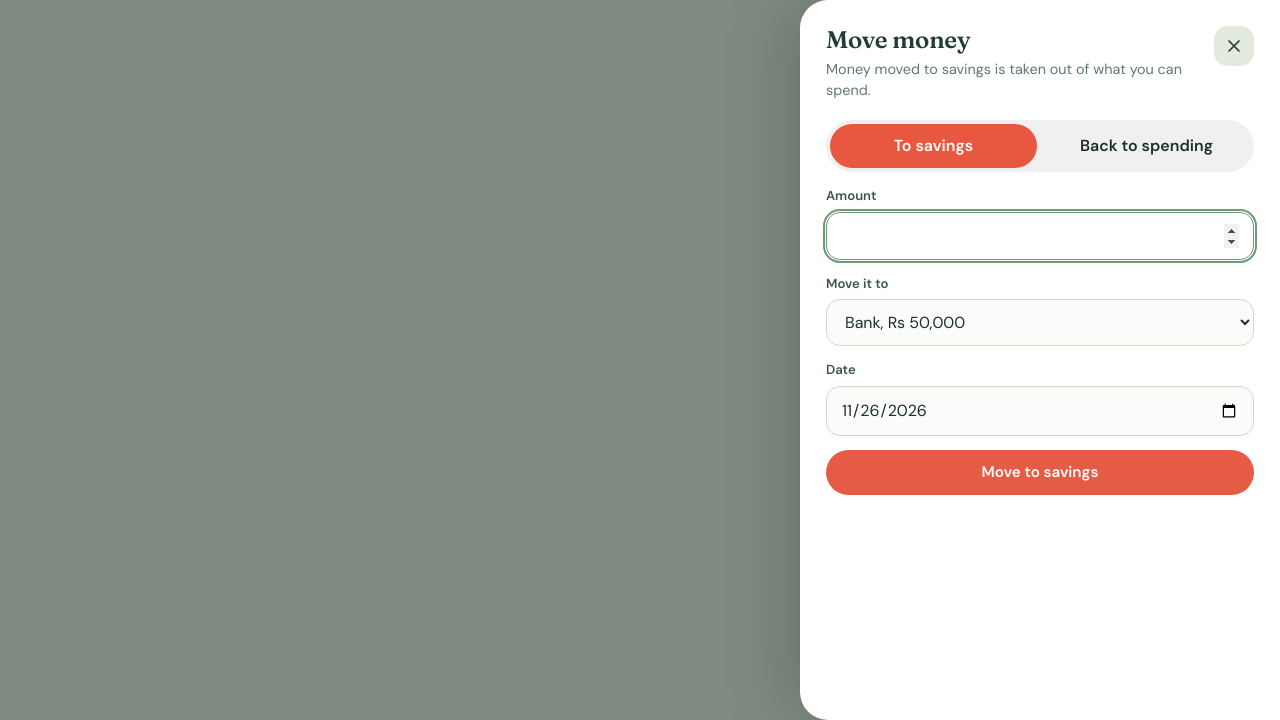
Test case: MoveMoney › asks for a name for a new item
The width and height of the screenshot is (1280, 720).
Select "A new savings item" in the dropdown at (1040, 323), box x1=826 y1=299 x2=1254 y2=346
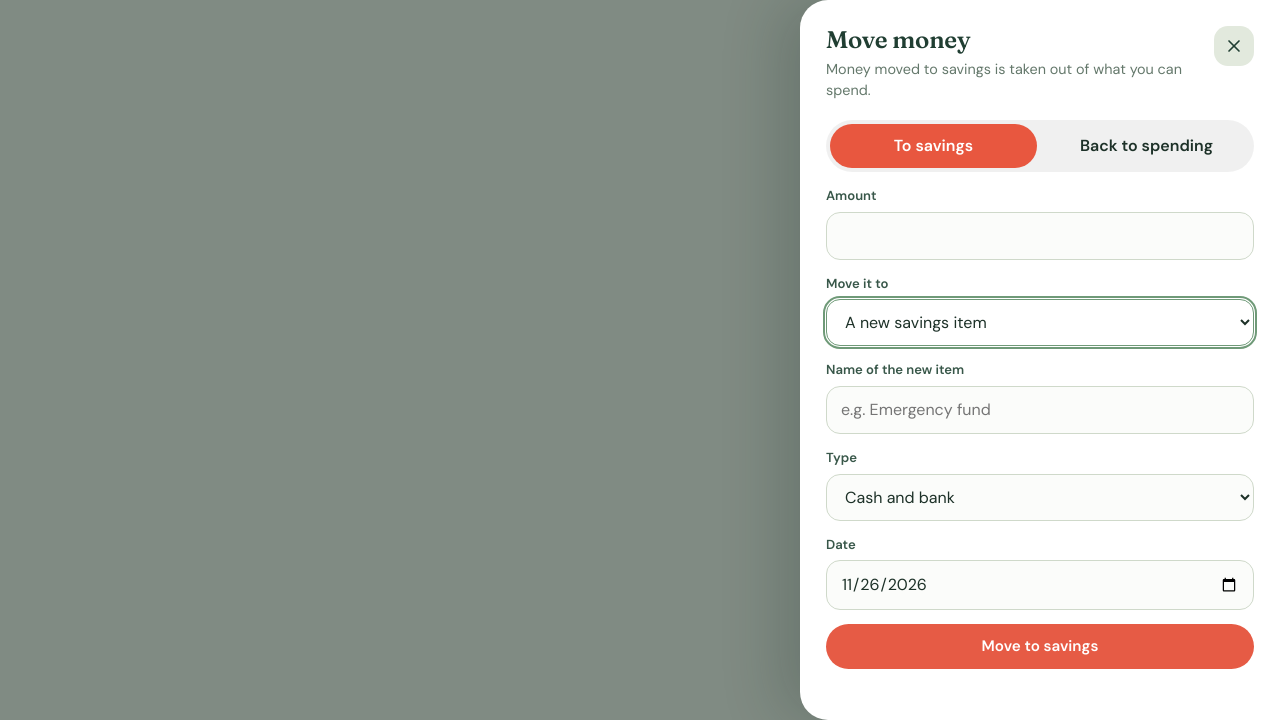
Type "5" into the number field at (1040, 236), box x1=826 y1=212 x2=1254 y2=260
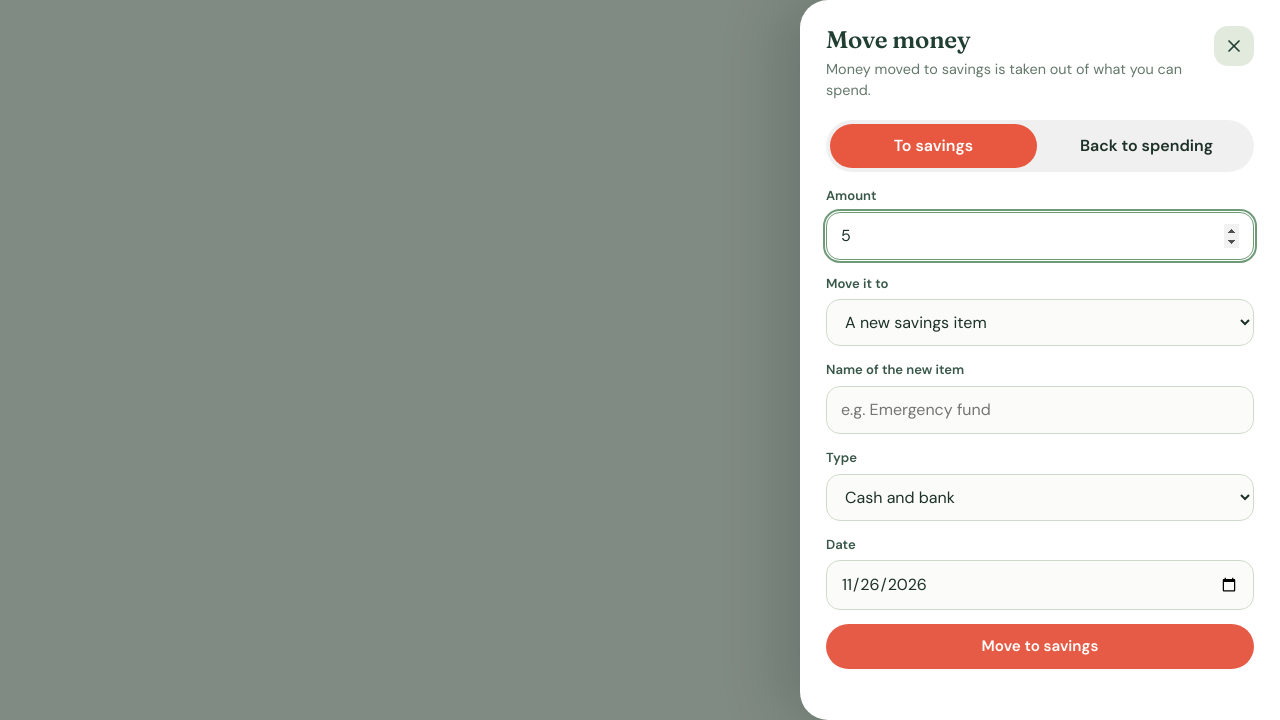
Click the button "Move to savings" at (1040, 647), box x1=826 y1=624 x2=1254 y2=669
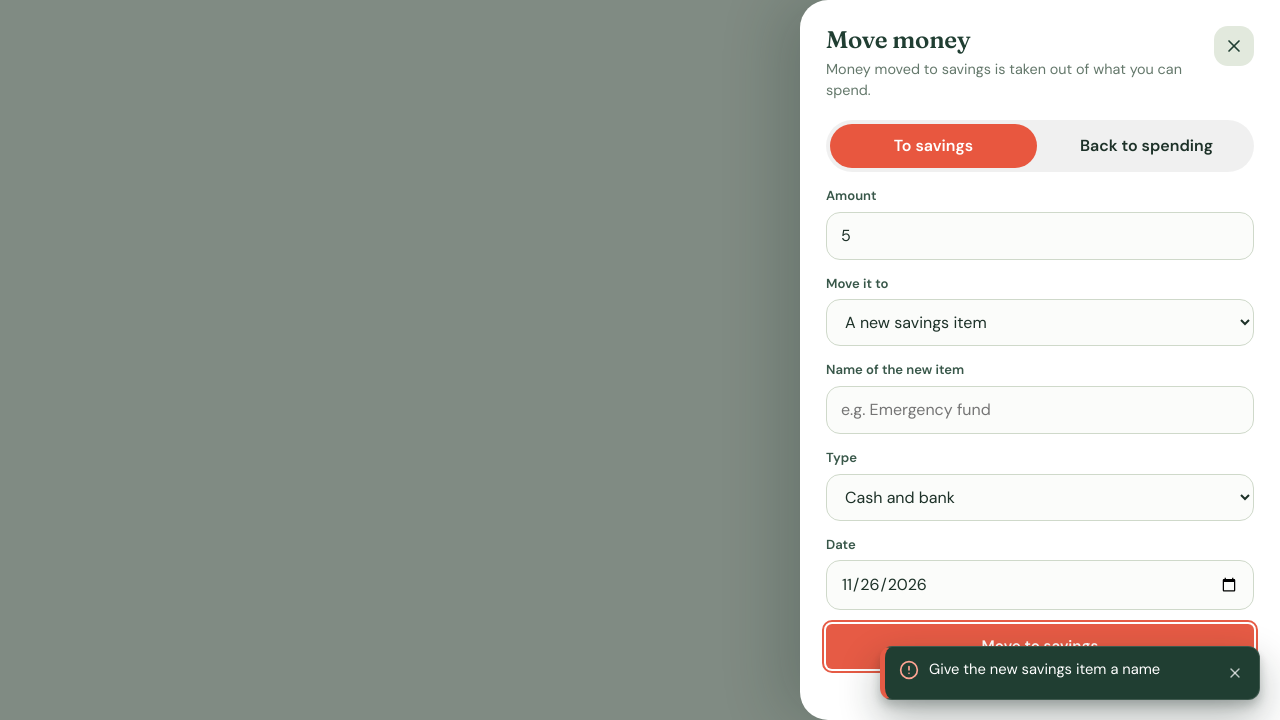
Check: the message reads "Give the new savings item a name", box x1=929 y1=659 x2=1160 y2=679
